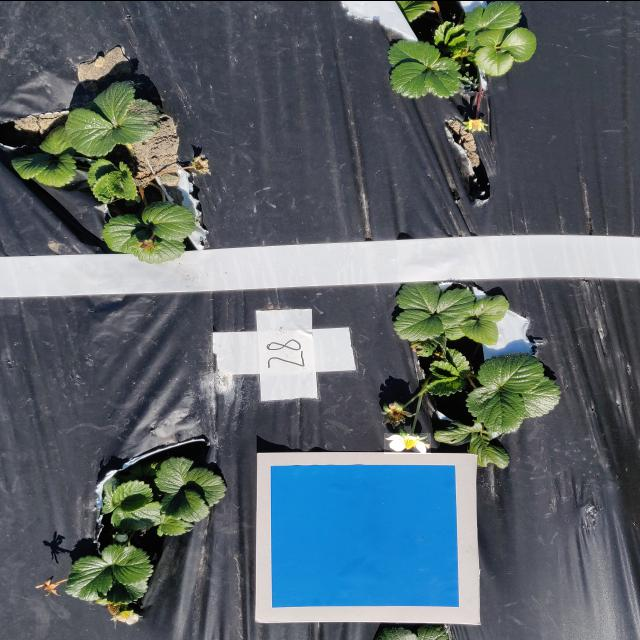partially-ripe: (384, 431, 432, 453)
ripe: (469, 118, 485, 130)
